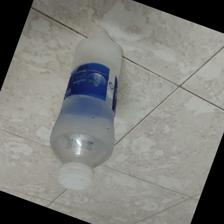Aquafina: (48, 28, 130, 191)
